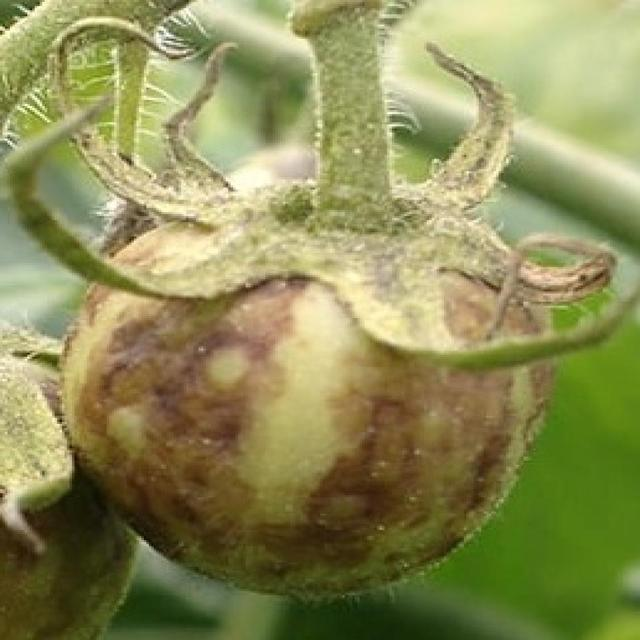Spotted wilt Virus Fruit: (41, 75, 82, 306)
